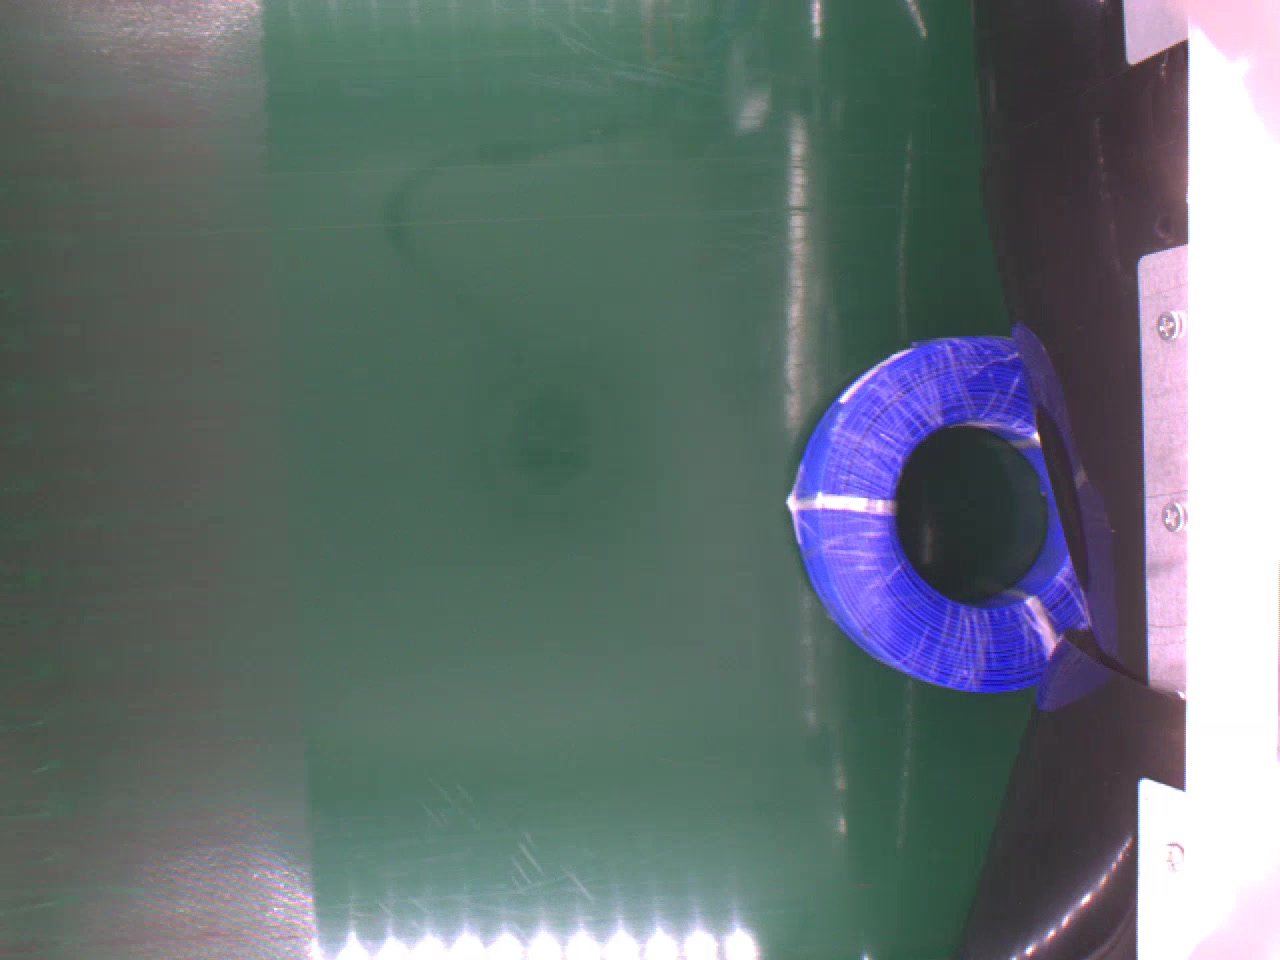blue: (787, 333, 1092, 686)
